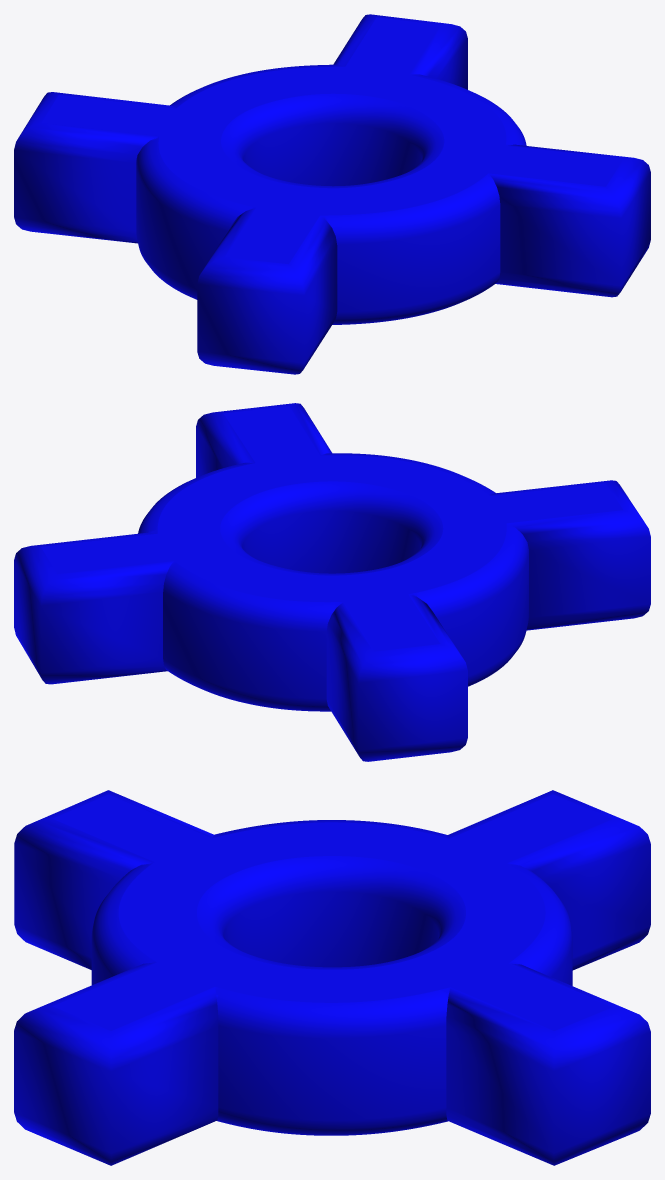
The picture shows the model from 3 angles, top to bottom: view 1: azimuth 30°, elevation 25°; view 2: azimuth 150°, elevation 25°; view 3: azimuth 270°, elevation 25°; orthographic projection. The views are drawn at different scales.
Visible parts, largest first — view 1: 164; view 2: 164; view 3: 164.
Boxes of the visible parts, x1=… form: 164: x1=14, y1=14, x2=650, y2=374; 164: x1=14, y1=403, x2=650, y2=761; 164: x1=14, y1=790, x2=650, y2=1165.
Bounding box in the file's own units: 0.7083 × 0.16 × 0.7083.
